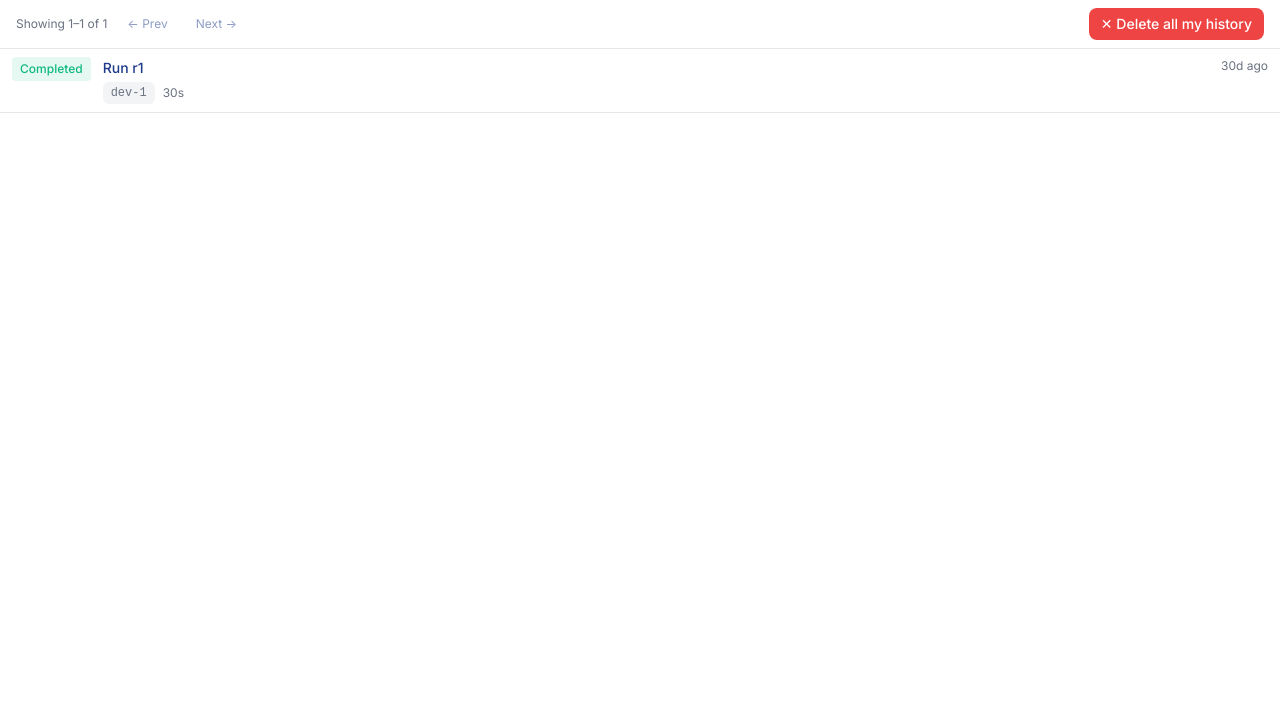
Test: ScenariosHistory › opens the mass-delete confirm modal when [✕ Delete all history] is clicked
expect the button with test id "history-row-r1" is shown: met, box top-left (0, 49), bottom-right (1279, 113)
Click the button with test id "history-delete-all" at (1176, 24), box top-left (1089, 8), bottom-right (1264, 40)
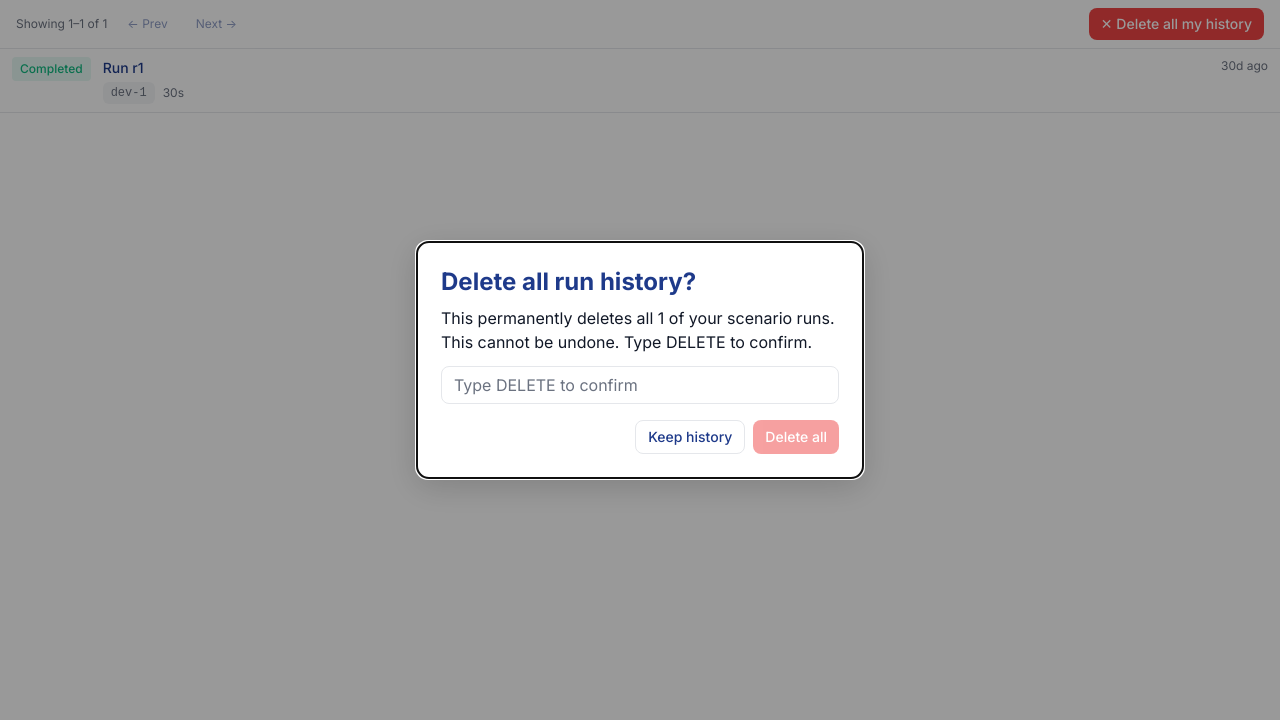
expect the element with test id "mass-delete-modal" is shown: met, box top-left (441, 266), bottom-right (839, 454)
